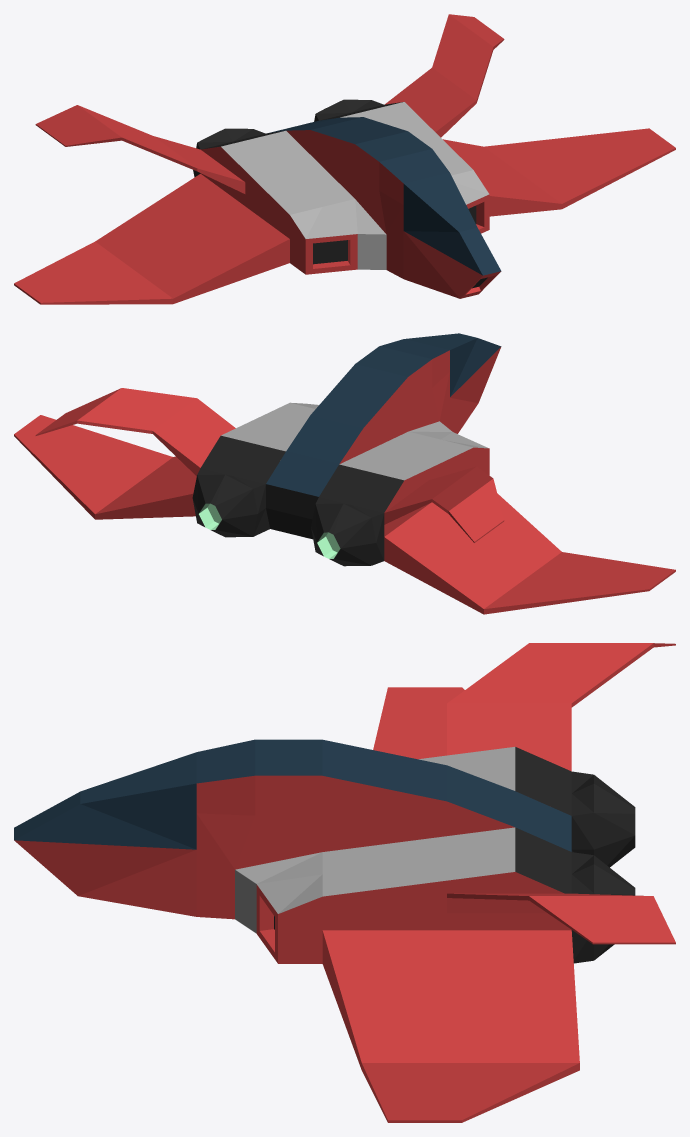
File: ship1.dae
The picture shows the model from 3 angles, top to bottom: view 1: azimuth 30°, elevation 25°; view 2: azimuth 150°, elevation 25°; view 3: azimuth 270°, elevation 25°; orthographic projection. The views are drawn at different scales.
Parts seen in each view (by area): view 1: Cube; view 2: Cube; view 3: Cube.
Boxes of the visible parts, box(x1,y1,x2,y2) form: Cube: box(14, 14, 675, 304); Cube: box(14, 333, 675, 614); Cube: box(14, 643, 675, 1122).
Size of the model in its own units: 27.61 by 17.85 by 5.37.
